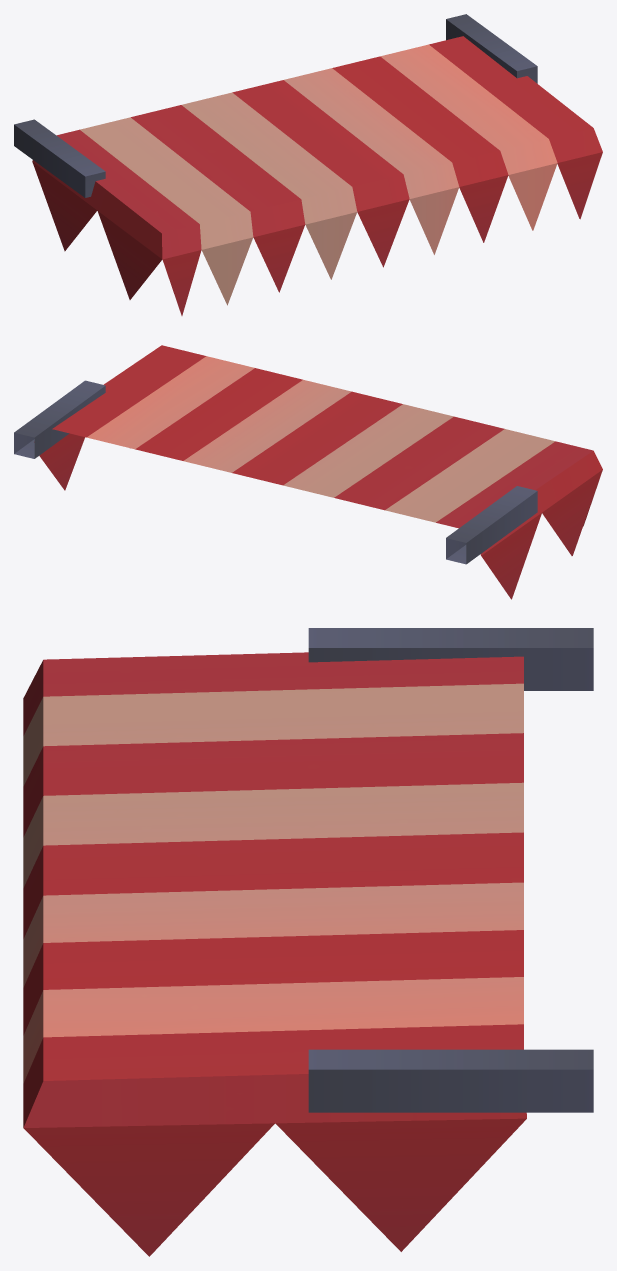
The model's file is SM_Shed_1B.FBX.
The picture shows the model from 3 angles, top to bottom: view 1: azimuth 30°, elevation 25°; view 2: azimuth 150°, elevation 25°; view 3: azimuth 270°, elevation 25°; orthographic projection. The views are drawn at different scales.
Parts seen in each view (by area): view 1: SM_Shed_1B; view 2: SM_Shed_1B; view 3: SM_Shed_1B.
Part boxes in pixels (bbox=[...]): SM_Shed_1B: bbox=[14, 14, 602, 315]; SM_Shed_1B: bbox=[14, 345, 602, 599]; SM_Shed_1B: bbox=[23, 628, 593, 1256].
Size of what is drawn, in the model's own units: 419 by 229 by 85.02.
